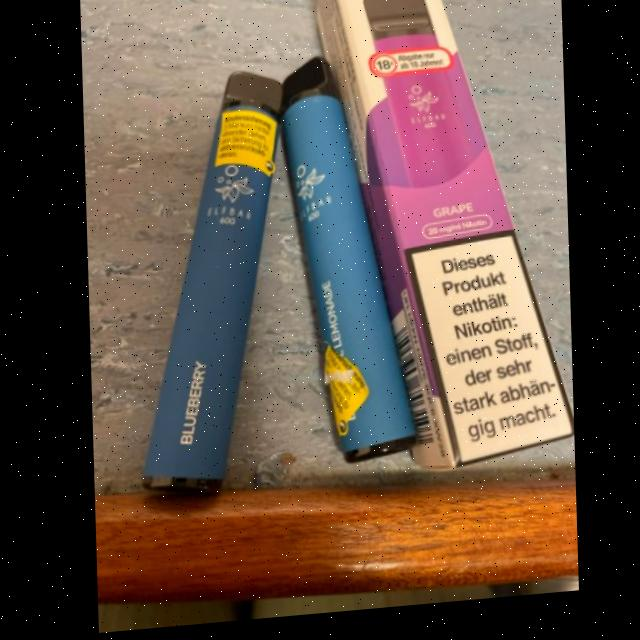vape: (128, 71, 294, 506), (279, 55, 418, 476), (363, 0, 469, 198)
